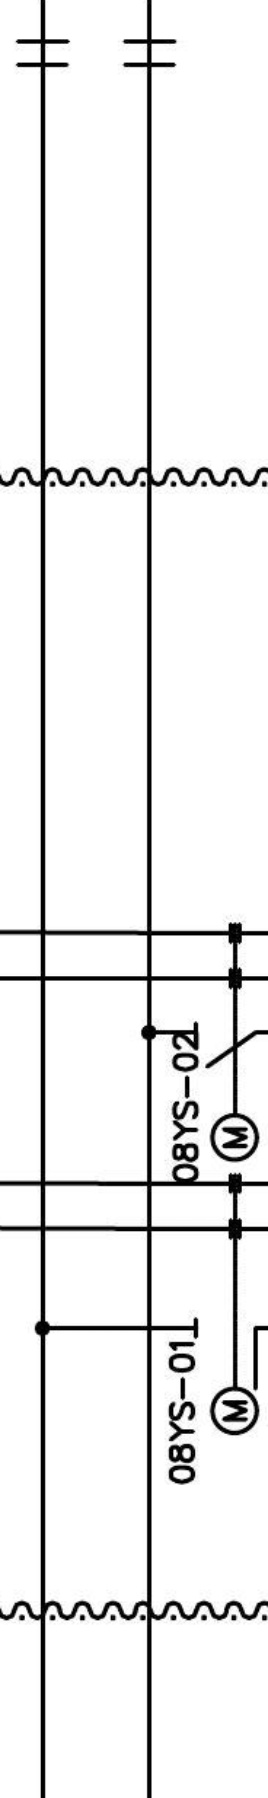115_1way_ds_w_motor: (191, 1019, 261, 1164), (192, 1316, 260, 1437)
115_buffer: (16, 39, 70, 68), (123, 39, 176, 68)
